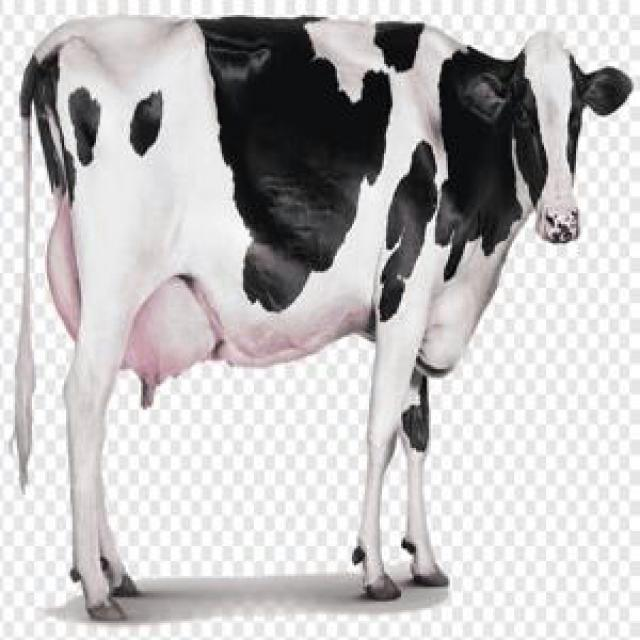cow: (20, 18, 631, 619), (15, 259, 34, 483)
